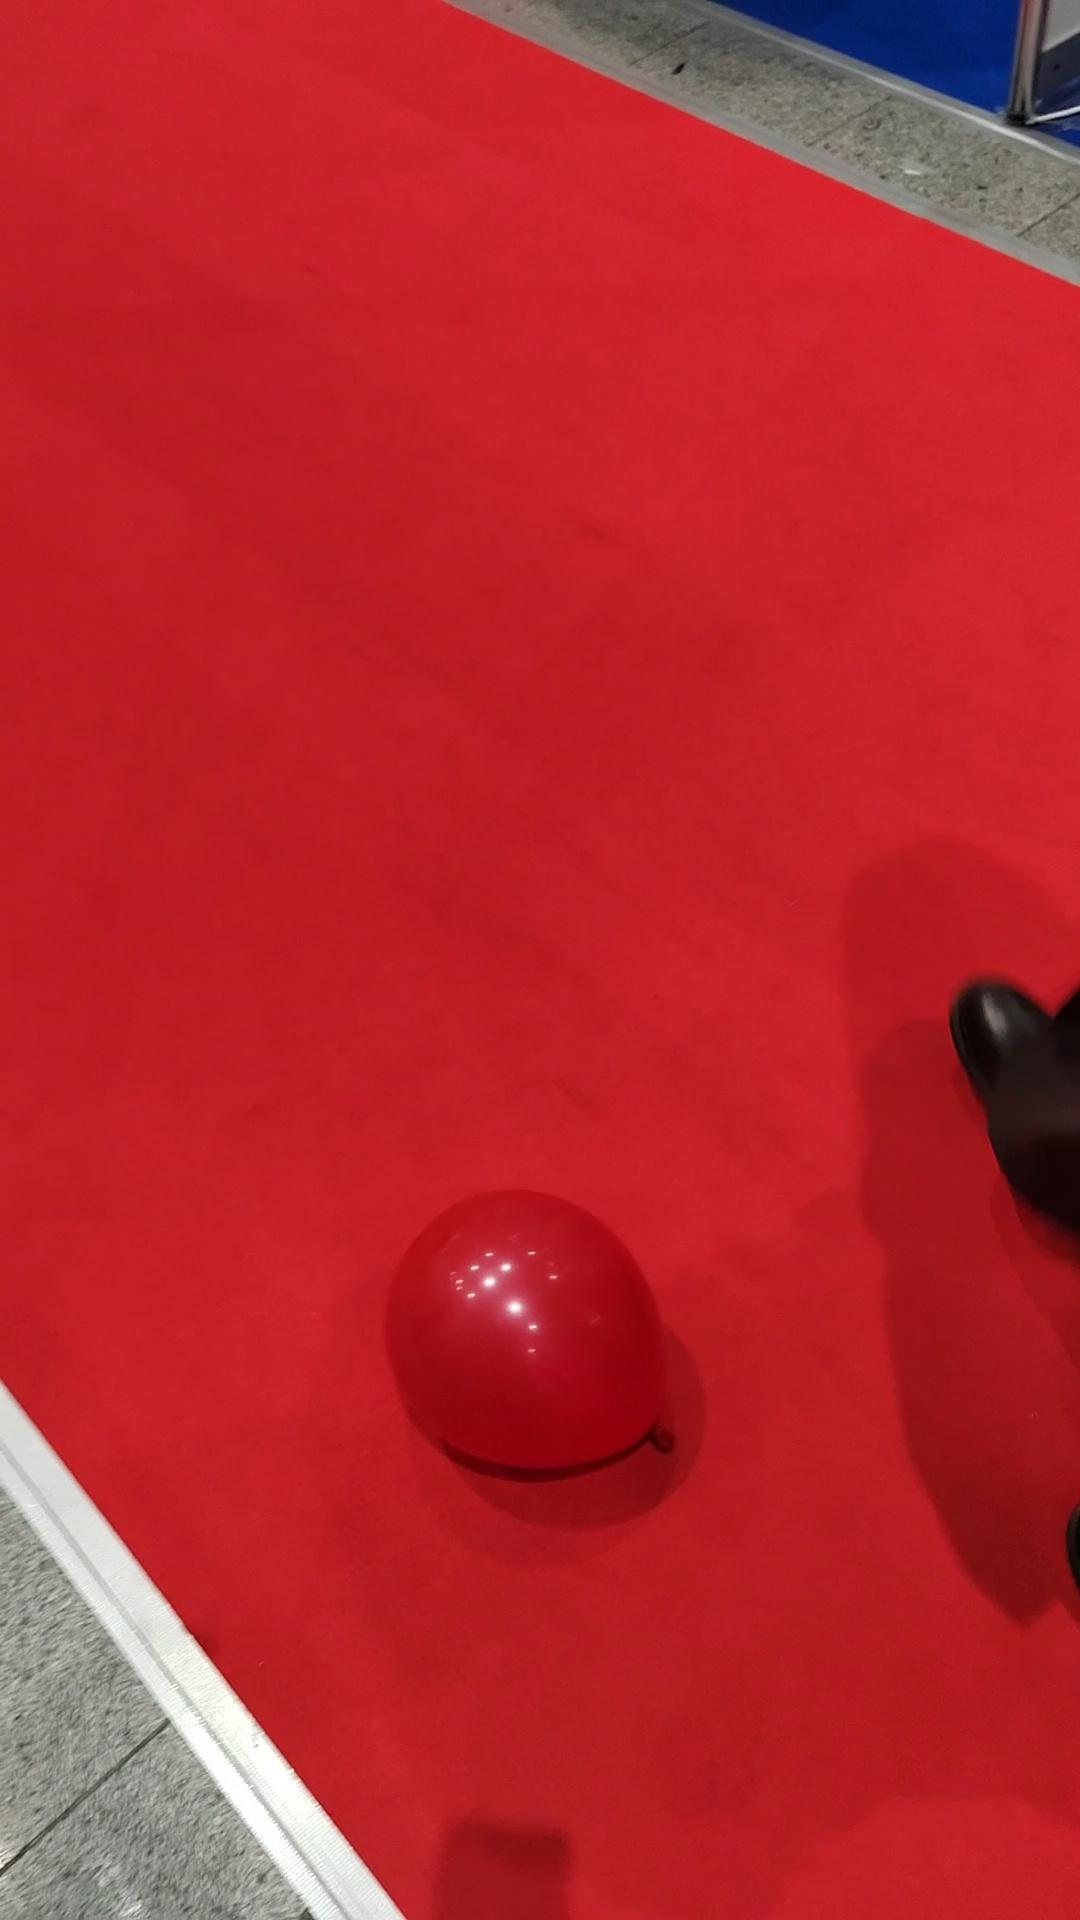red: (382, 1188, 669, 1476)
